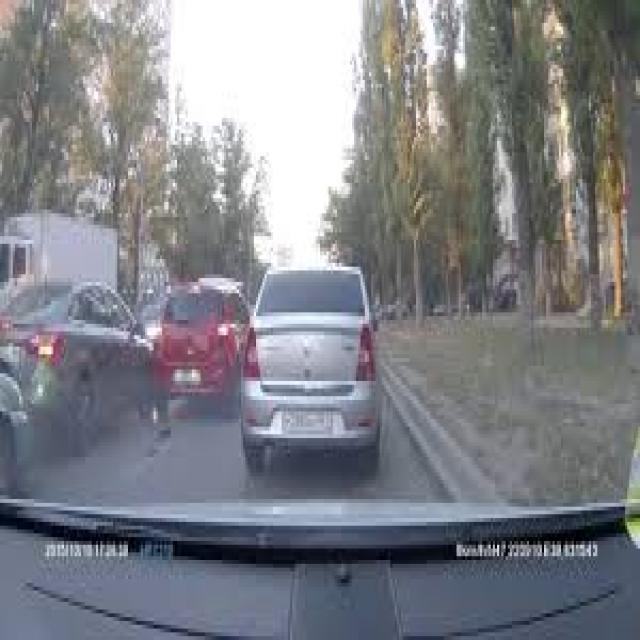accident: (4, 263, 241, 427)
